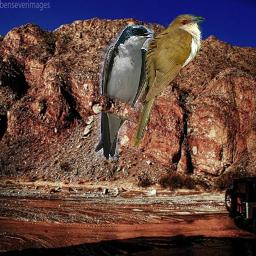Cuckoo: (133, 14, 205, 147)
Swallow: (95, 25, 154, 160)
